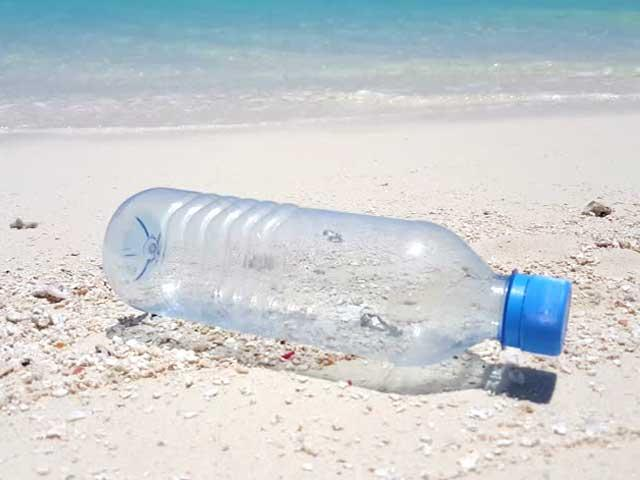bottle: (79, 141, 566, 391)
